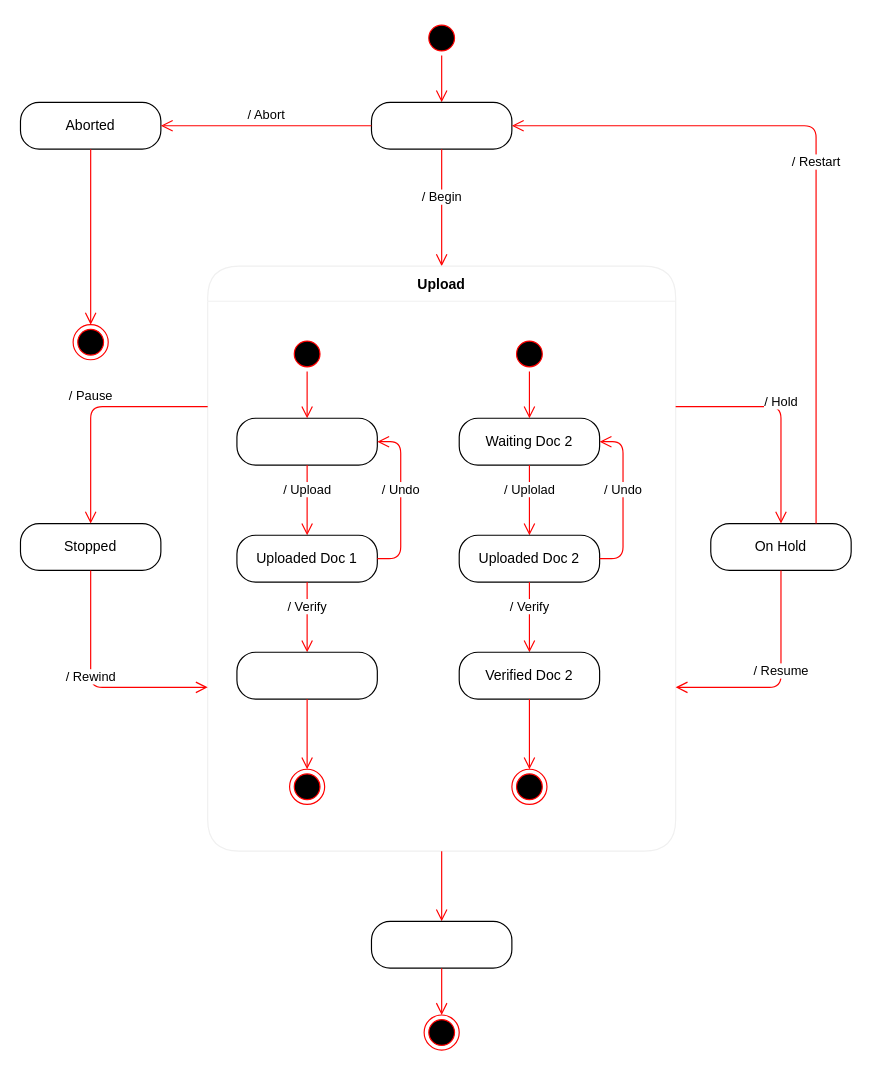
This 872x1071 diagram has some shape labels left out. Each missing label, with the centre of its shape:
Completed: [441,944]
Ready: [441,125]
Verified Doc 1: [306,675]
Waiting Doc 1: [306,441]
